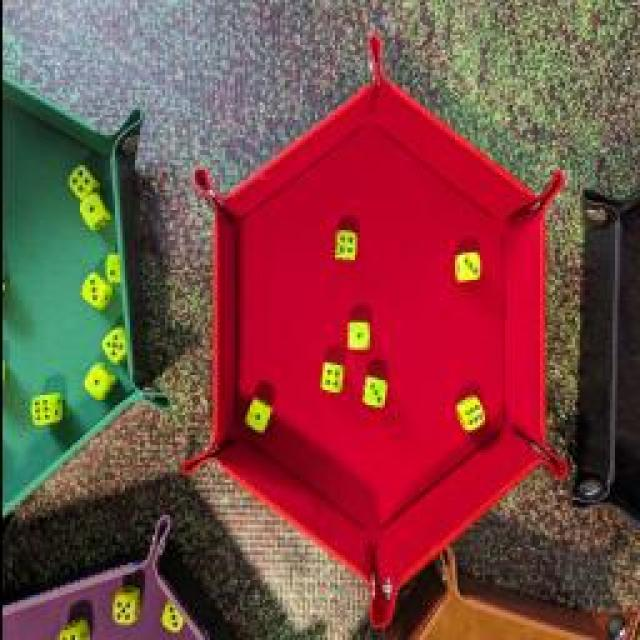dice_1: (76, 191, 114, 234), (341, 316, 371, 356), (242, 398, 272, 438), (81, 362, 111, 400)
dice_2: (101, 246, 121, 286)
dice_3: (78, 268, 112, 314), (448, 250, 484, 290), (356, 371, 386, 411), (156, 596, 186, 632)
dice_4: (315, 358, 345, 398), (330, 228, 358, 268), (68, 166, 92, 206)
dice_5: (111, 582, 141, 628), (102, 325, 126, 365)
dice_6: (454, 394, 484, 434), (30, 394, 60, 428)
